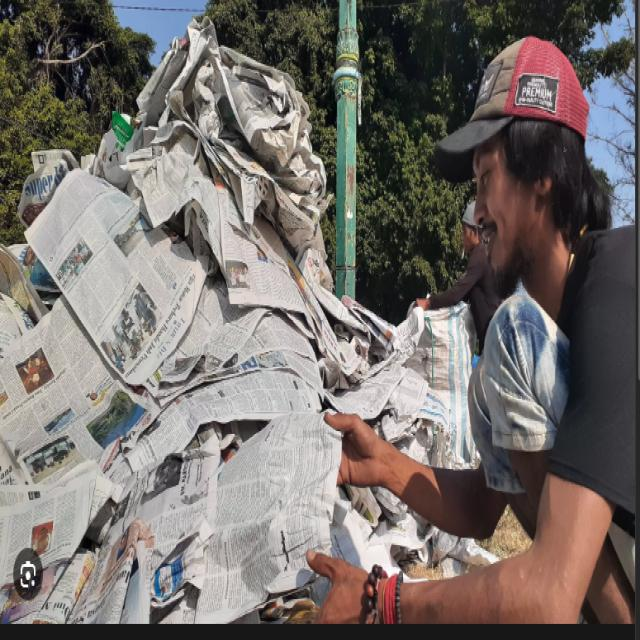Koran: (1, 13, 488, 624)
